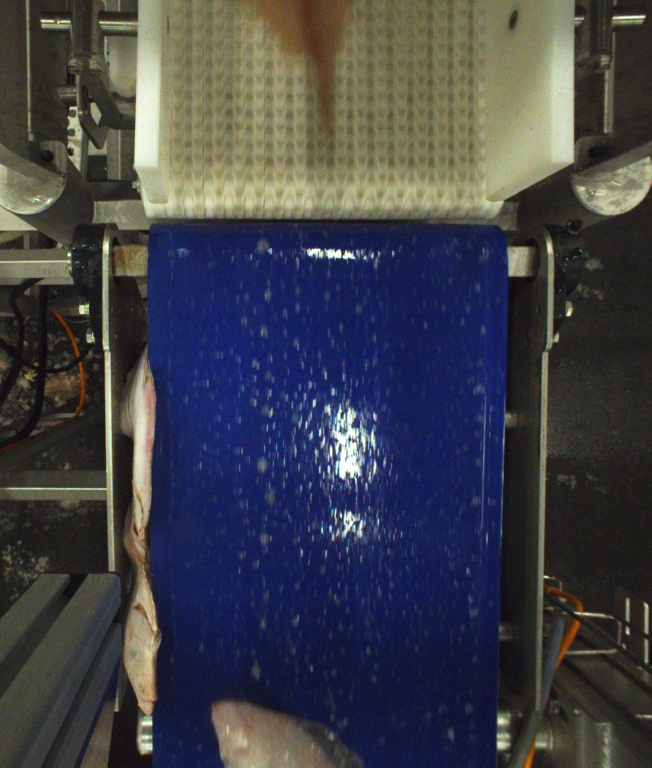WIT: (244, 0, 343, 129)
